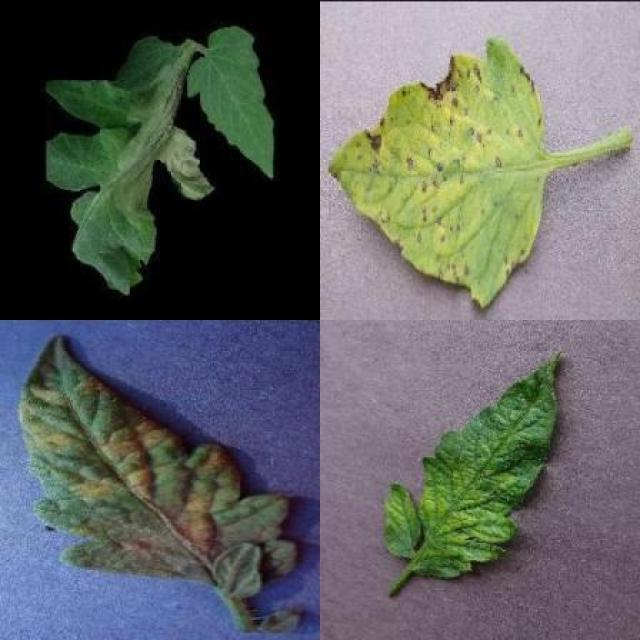Healthy: (186, 27, 276, 180)
Late Blight: (46, 39, 214, 295)
Leaf Mold: (17, 332, 297, 598)
Mosaic Virus: (382, 352, 562, 578)
Septoria: (328, 37, 545, 310)
